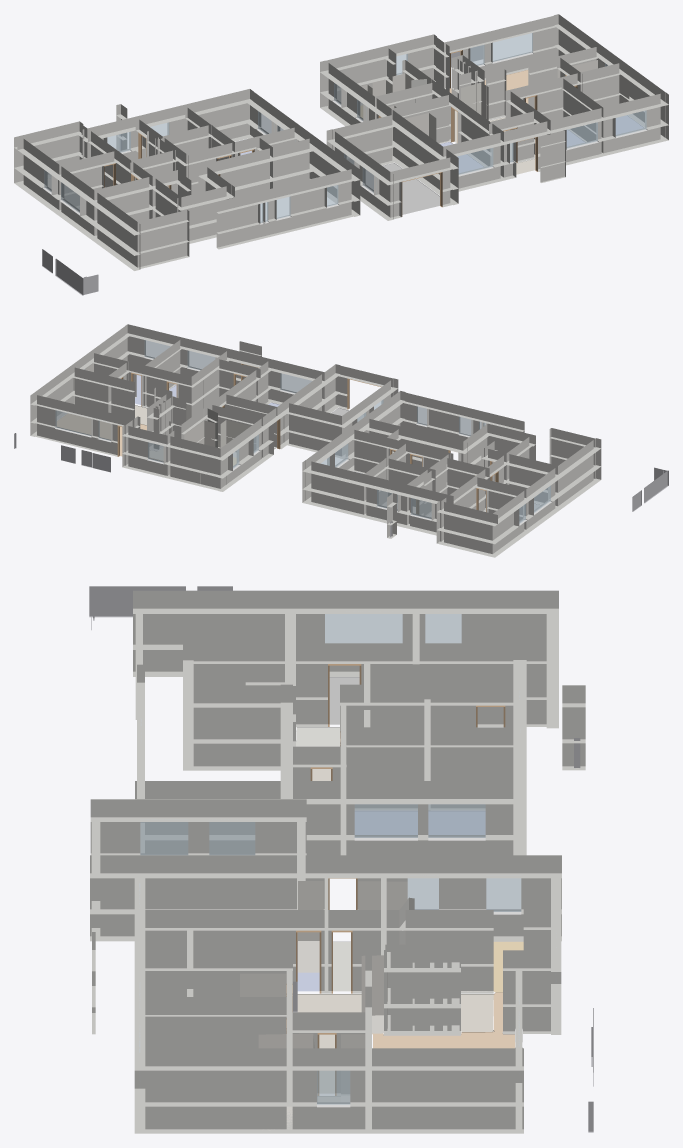
The picture shows the model from 3 angles, top to bottom: view 1: azimuth 30°, elevation 25°; view 2: azimuth 150°, elevation 25°; view 3: azimuth 270°, elevation 25°; orthographic projection. The views are drawn at different scales.
Visible parts, largest first — view 1: walls, railings, floor_16_Garage, window_29, furniture_2_closet, window_0, window_1, window_2, furniture_5_closet; view 2: walls, railings, floor_1_Living_Room, window_29, furniture_0_closet, furniture_1_closet, window_0, window_1; view 3: walls, floor_2_Entry, floor_6_Bed_Room, railings, floor_1_Living_Room, window_15, window_20, window_12, window_14, furniture_5_closet, window_30, furniture_2_closet (+8 smaller).
Boxes of the visible parts, box(x1,y1,x2,y2) form: walls: box(14, 14, 668, 270); railings: box(42, 45, 482, 295); floor_16_Garage: box(366, 163, 439, 214); window_29: box(492, 33, 532, 61); furniture_2_closet: box(461, 82, 488, 120); window_0: box(457, 148, 493, 174); window_1: box(566, 122, 597, 148); window_2: box(615, 110, 646, 136); furniture_5_closet: box(392, 113, 436, 158); walls: box(30, 324, 601, 557); railings: box(14, 433, 668, 537); floor_1_Living_Room: box(57, 413, 161, 460); window_29: box(55, 410, 91, 435); furniture_0_closet: box(184, 420, 215, 446); furniture_1_closet: box(220, 420, 261, 458); window_0: box(280, 373, 311, 393); window_1: box(187, 350, 215, 369); walls: box(90, 590, 585, 1133); floor_2_Entry: box(297, 994, 493, 1093); floor_6_Bed_Room: box(355, 811, 485, 834); railings: box(89, 586, 593, 1132); floor_1_Living_Room: box(372, 992, 515, 1048); window_15: box(325, 614, 402, 643); window_20: box(354, 804, 417, 837); window_12: box(428, 804, 485, 837); window_14: box(140, 822, 188, 855); furniture_5_closet: box(298, 881, 323, 972); window_30: box(209, 822, 255, 855); furniture_2_closet: box(361, 955, 387, 1033).
Size of the model in its own units: 37 by 2.72 by 15.24.
